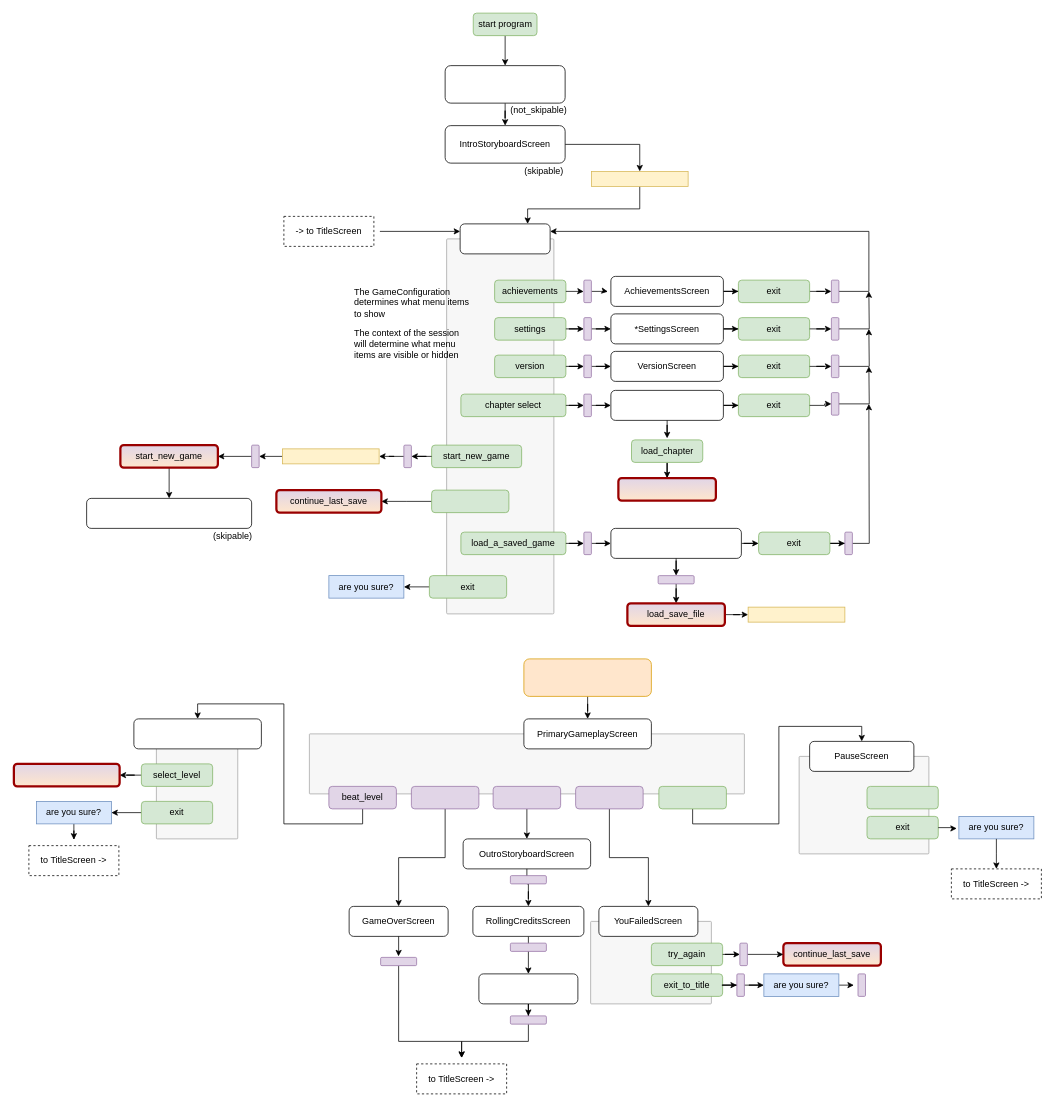
Image size: 1055x1107. Some labels were removed from this diagram. The box of each missing label's shape, as (x1, y1, x2, y2) in pixels:
*LoadASavedGameScreen: (610, 528, 741, 558)
ChapterSelectScreen: (610, 390, 723, 420)
continue: (431, 489, 509, 513)
GameWonScreen: (478, 973, 578, 1004)
IntroLogosScreen: (444, 65, 565, 103)
LevelSelectScreen: (133, 718, 261, 749)
load_game_and_state: (523, 658, 651, 696)
load_last_session: (591, 171, 688, 186)
load_level_and_start: (12, 762, 120, 787)
load_session: (747, 606, 845, 622)
lose_game: (411, 786, 479, 809)
lose_life: (575, 786, 643, 809)
NewGameIntroStoryboardScreen: (86, 498, 252, 528)
pause_game: (658, 786, 726, 809)
start_chapter: (617, 477, 717, 501)
start_new_session: (282, 448, 379, 464)
TitleScreen: (459, 223, 550, 254)
unpause: (866, 786, 938, 809)
win_game: (492, 786, 561, 809)
